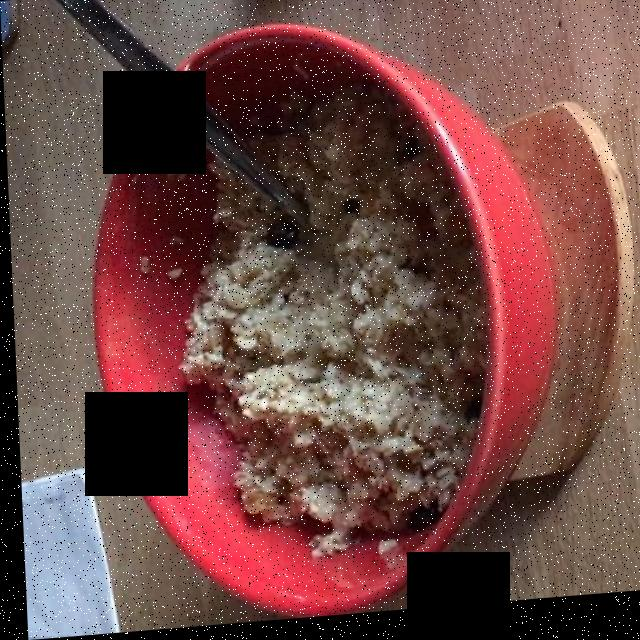flakes-oat: (180, 99, 481, 547)
